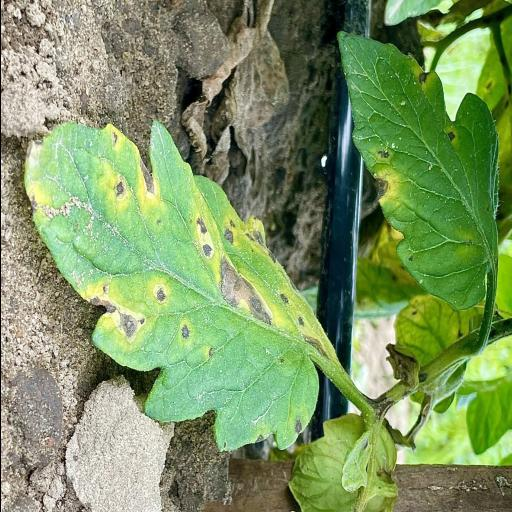Early Blight: (21, 114, 321, 458), (338, 30, 498, 308)
